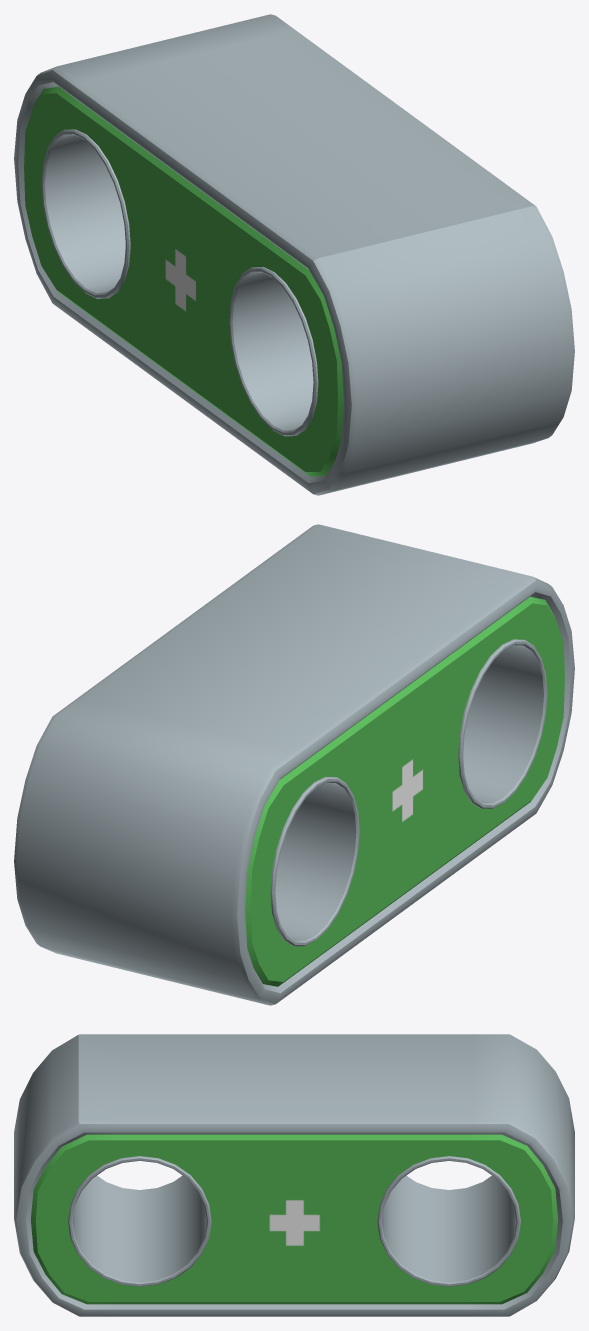
The model's file is Operation_Add.fbx.
3 views of the same model, one above another, from view 1: azimuth 30°, elevation 25°; view 2: azimuth 150°, elevation 25°; view 3: azimuth 270°, elevation 25° (orthographic). The views are drawn at different scales.
Parts seen in each view (by area): view 1: Operation_Add; view 2: Operation_Add; view 3: Operation_Add.
Boxes of the visible parts, x1=… form: Operation_Add: x1=14, y1=14, x2=574, y2=495; Operation_Add: x1=14, y1=524, x2=574, y2=1005; Operation_Add: x1=14, y1=1034, x2=574, y2=1316.
Size of the model in its own units: 103 by 100 by 260.
Materials: 1 (1 with a texture image).
